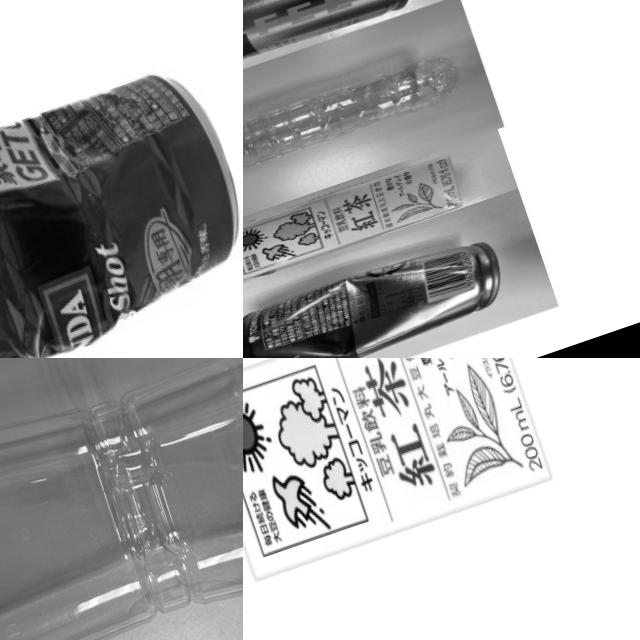Aluminium Foil: (243, 358, 558, 598), (0, 61, 243, 358), (243, 145, 468, 289)
Can: (243, 229, 509, 358), (243, 0, 420, 105)
Transparent Plastic Bottle: (0, 358, 243, 640), (243, 46, 466, 205)
